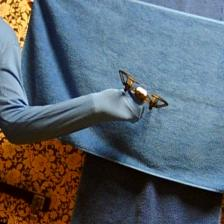drone: (118, 69, 170, 111)
